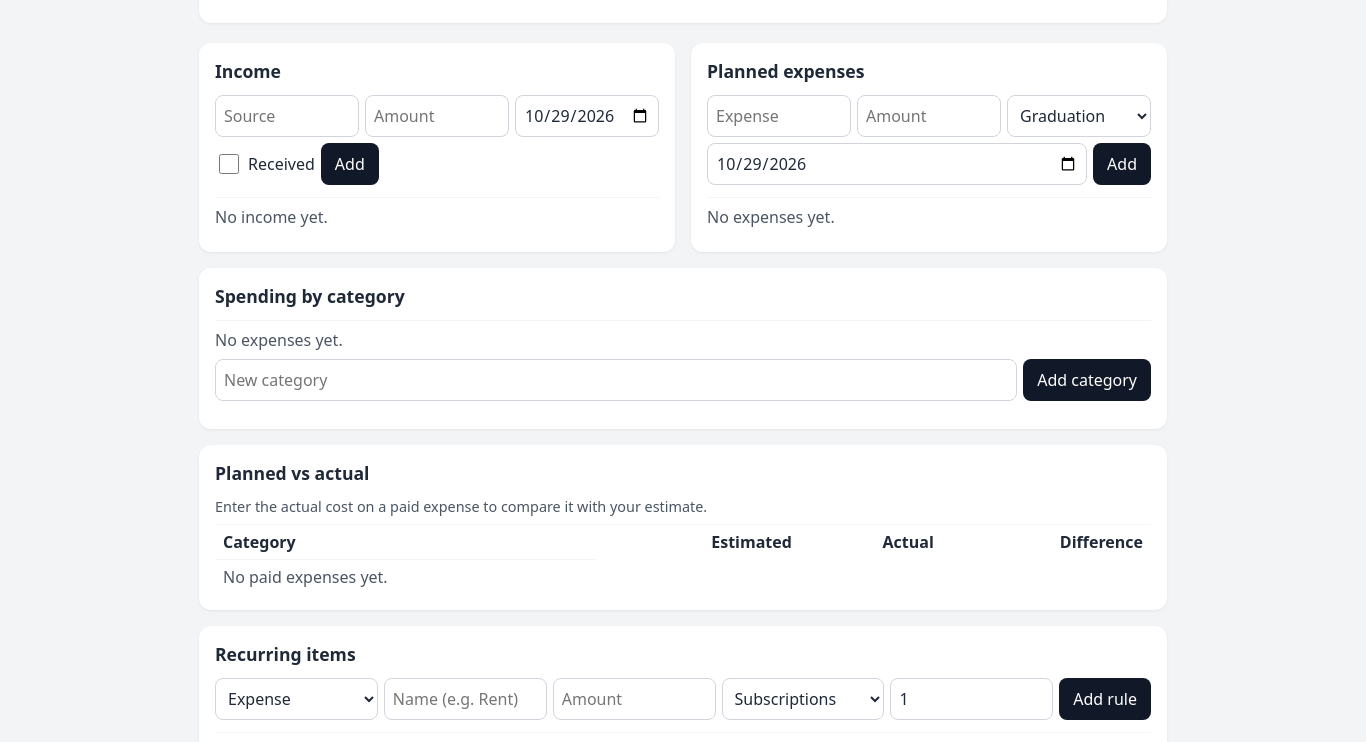
it: App › adds a custom category and uses it in spending by category
(page scrolled)
Type "Gym" into the field labelled "New category" at (616, 380), box [215,359,1017,401]
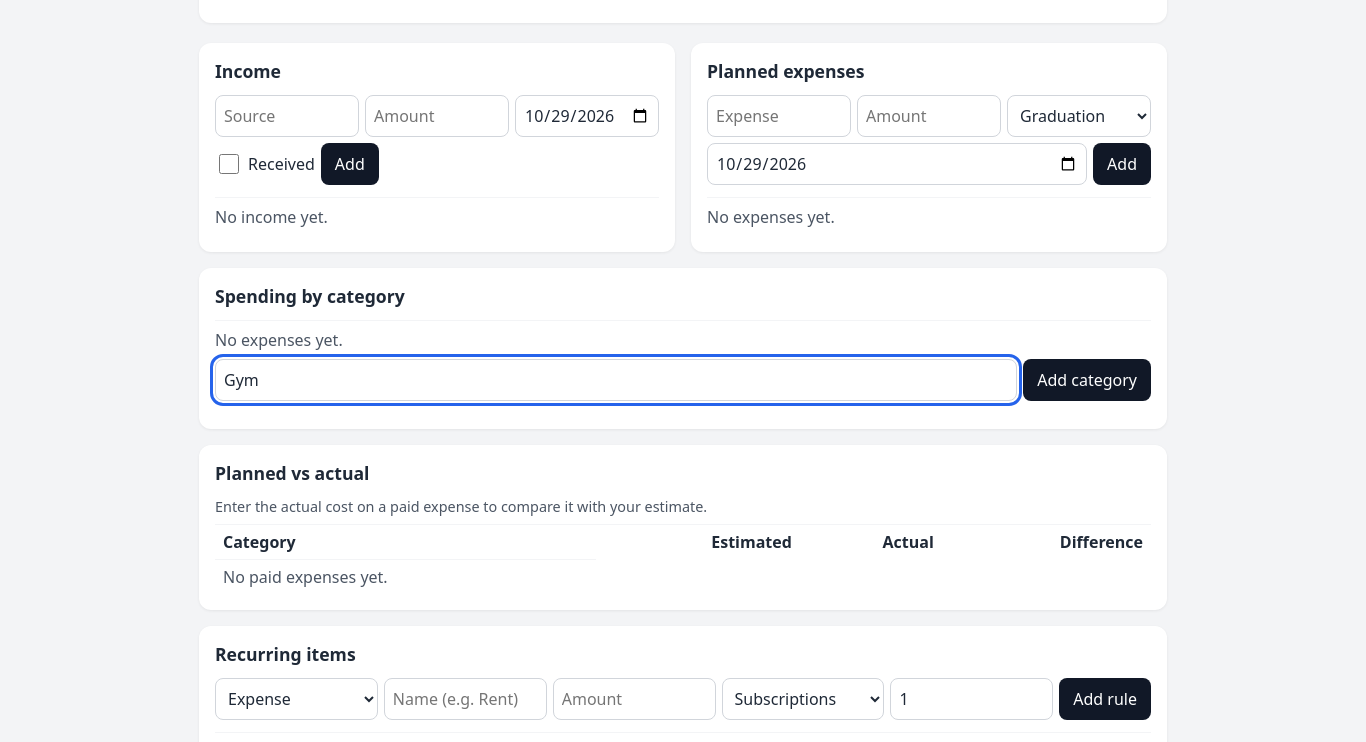
Click the button "Add category" at (1087, 380), box [1023,359,1151,401]
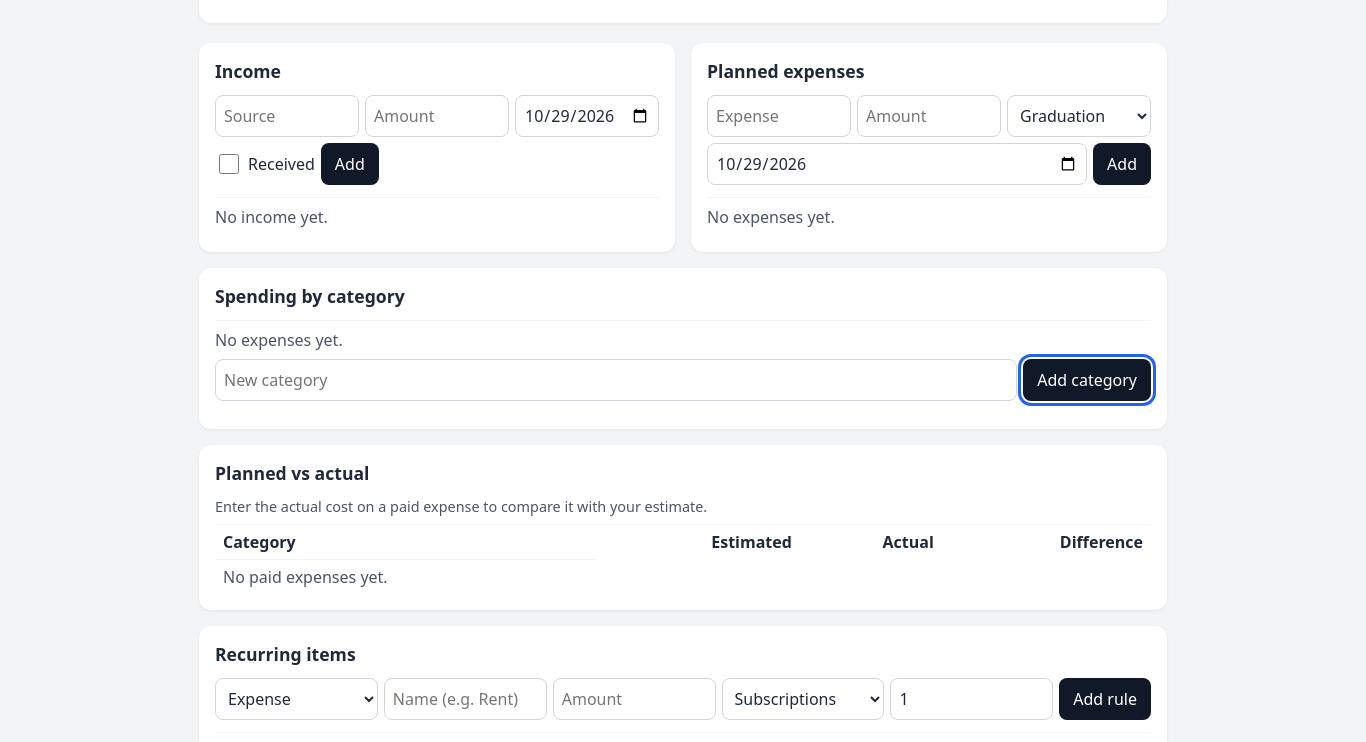
Select "Gym" in the dropdown named "Expense category" at (1079, 116), box [1007,95,1151,137]
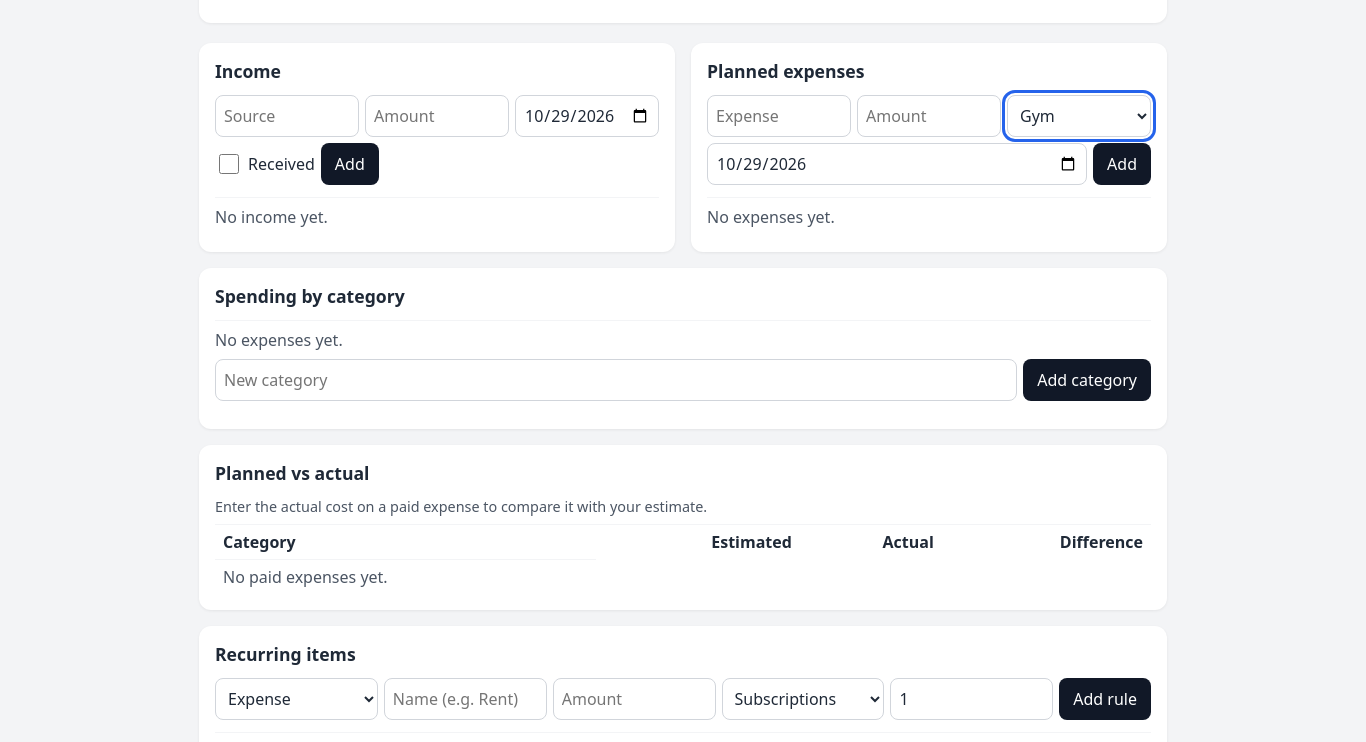
Type "Membership" into the field named "Expense name" at (779, 116), box [707,95,851,137]
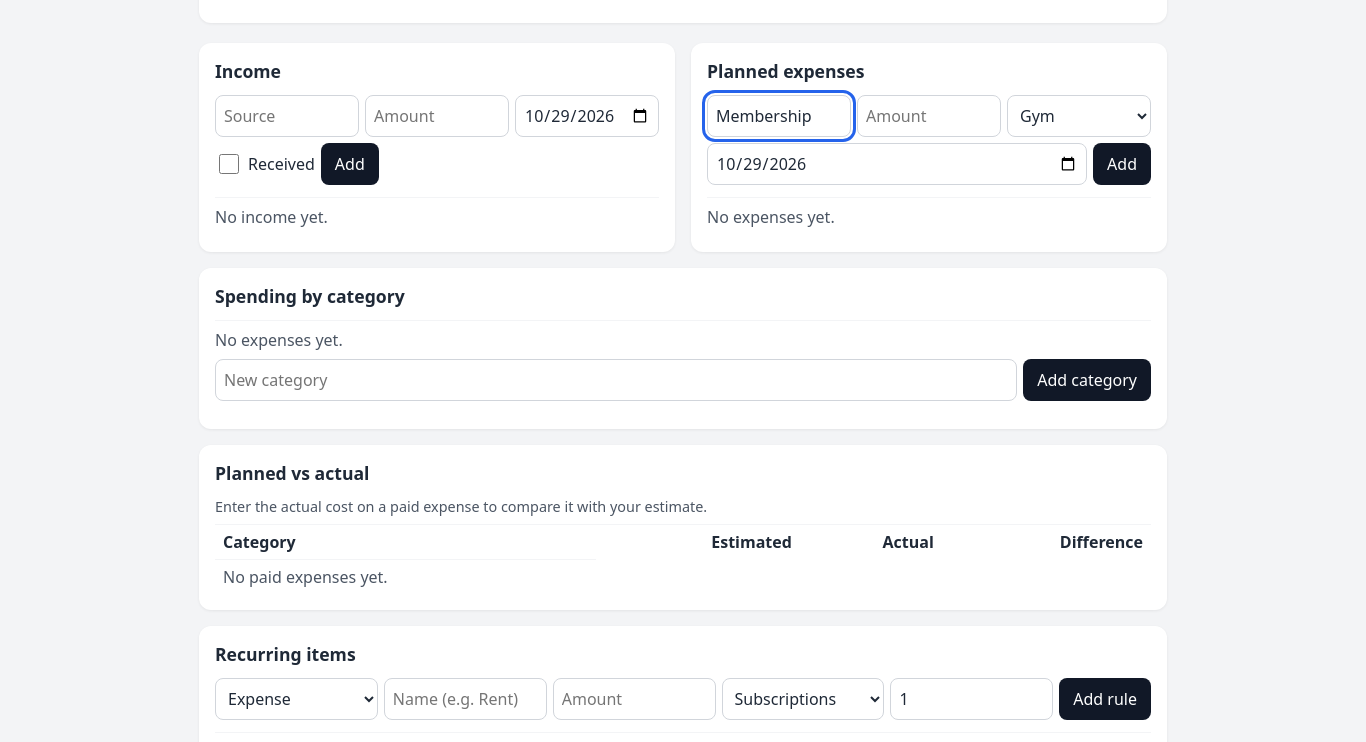
Type "20000" into the number field named "Expense amount" at (929, 116), box [857,95,1001,137]
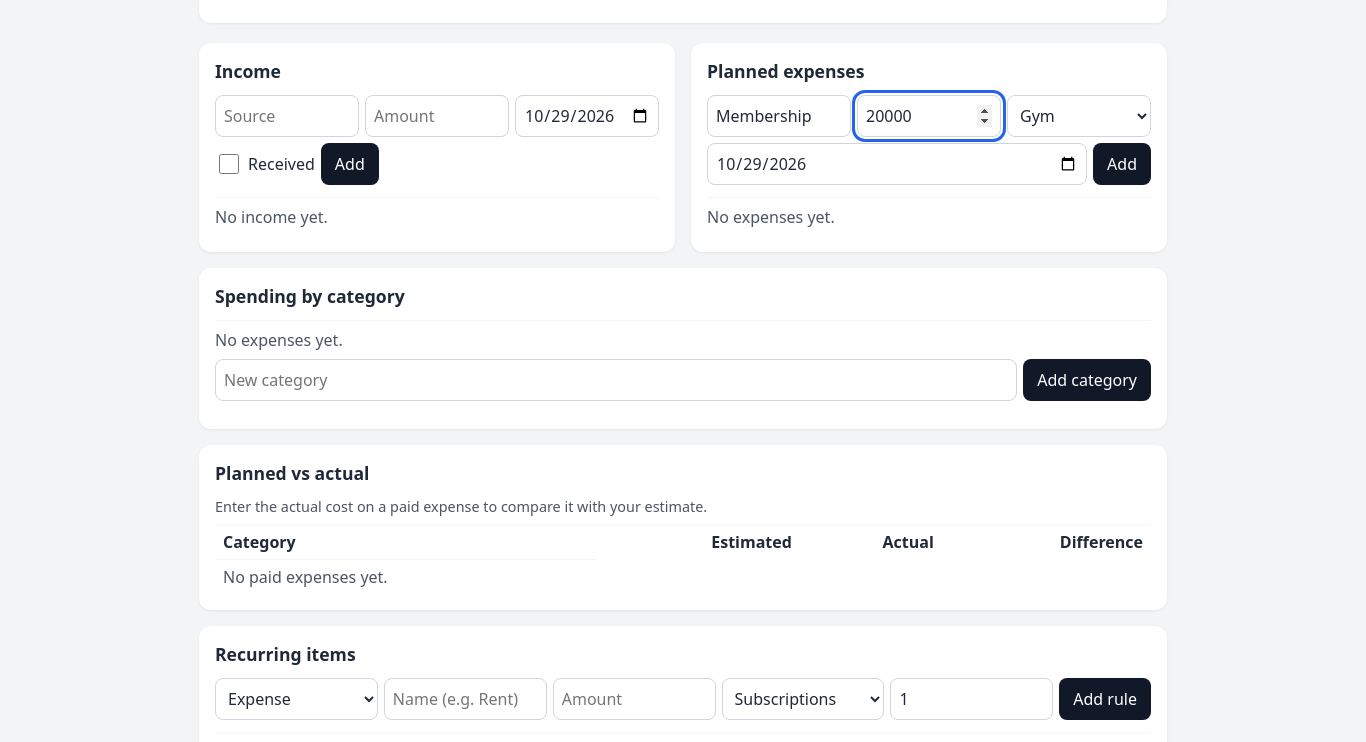
Click the 2nd button "Add" at (1122, 164), box [1093,143,1151,185]
(page scrolled)
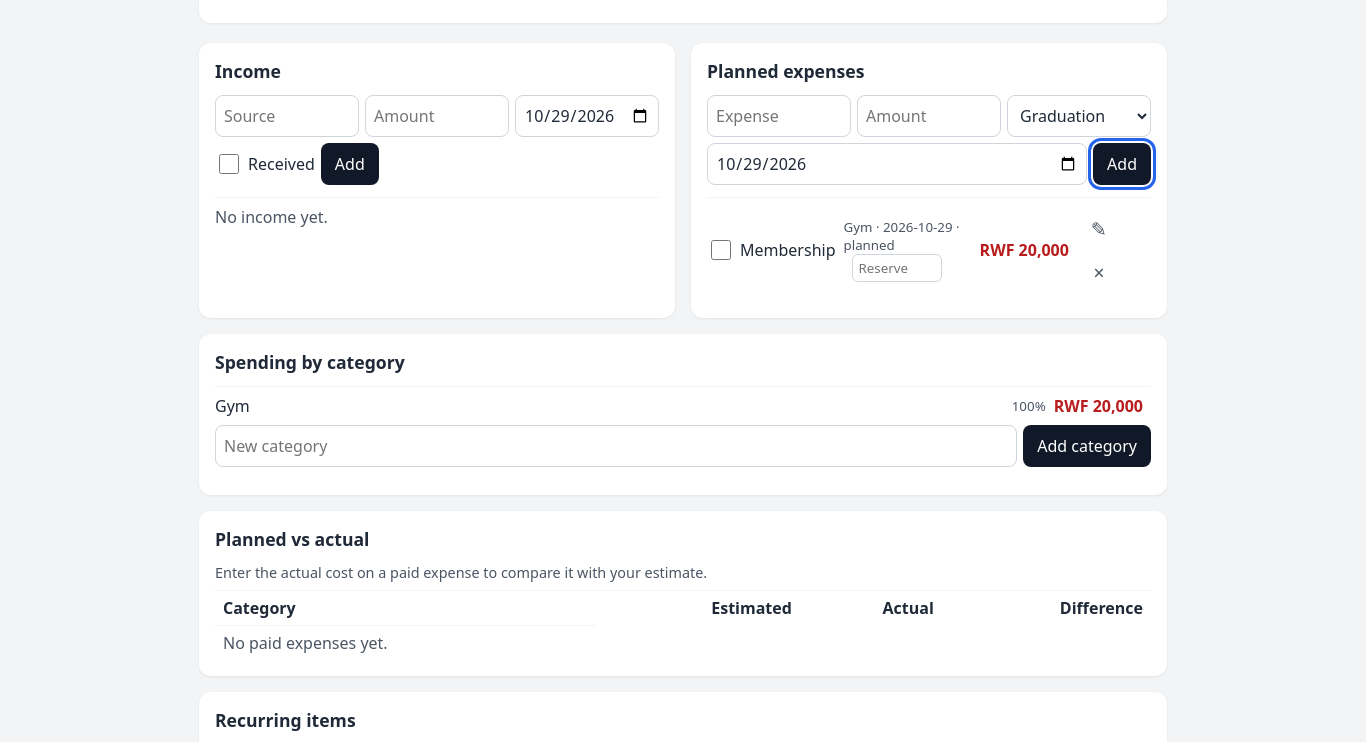
Result: the text "Gym" is shown at [215,395,250,417]
Result: the text "100%" is shown at [1012,397,1046,415]
